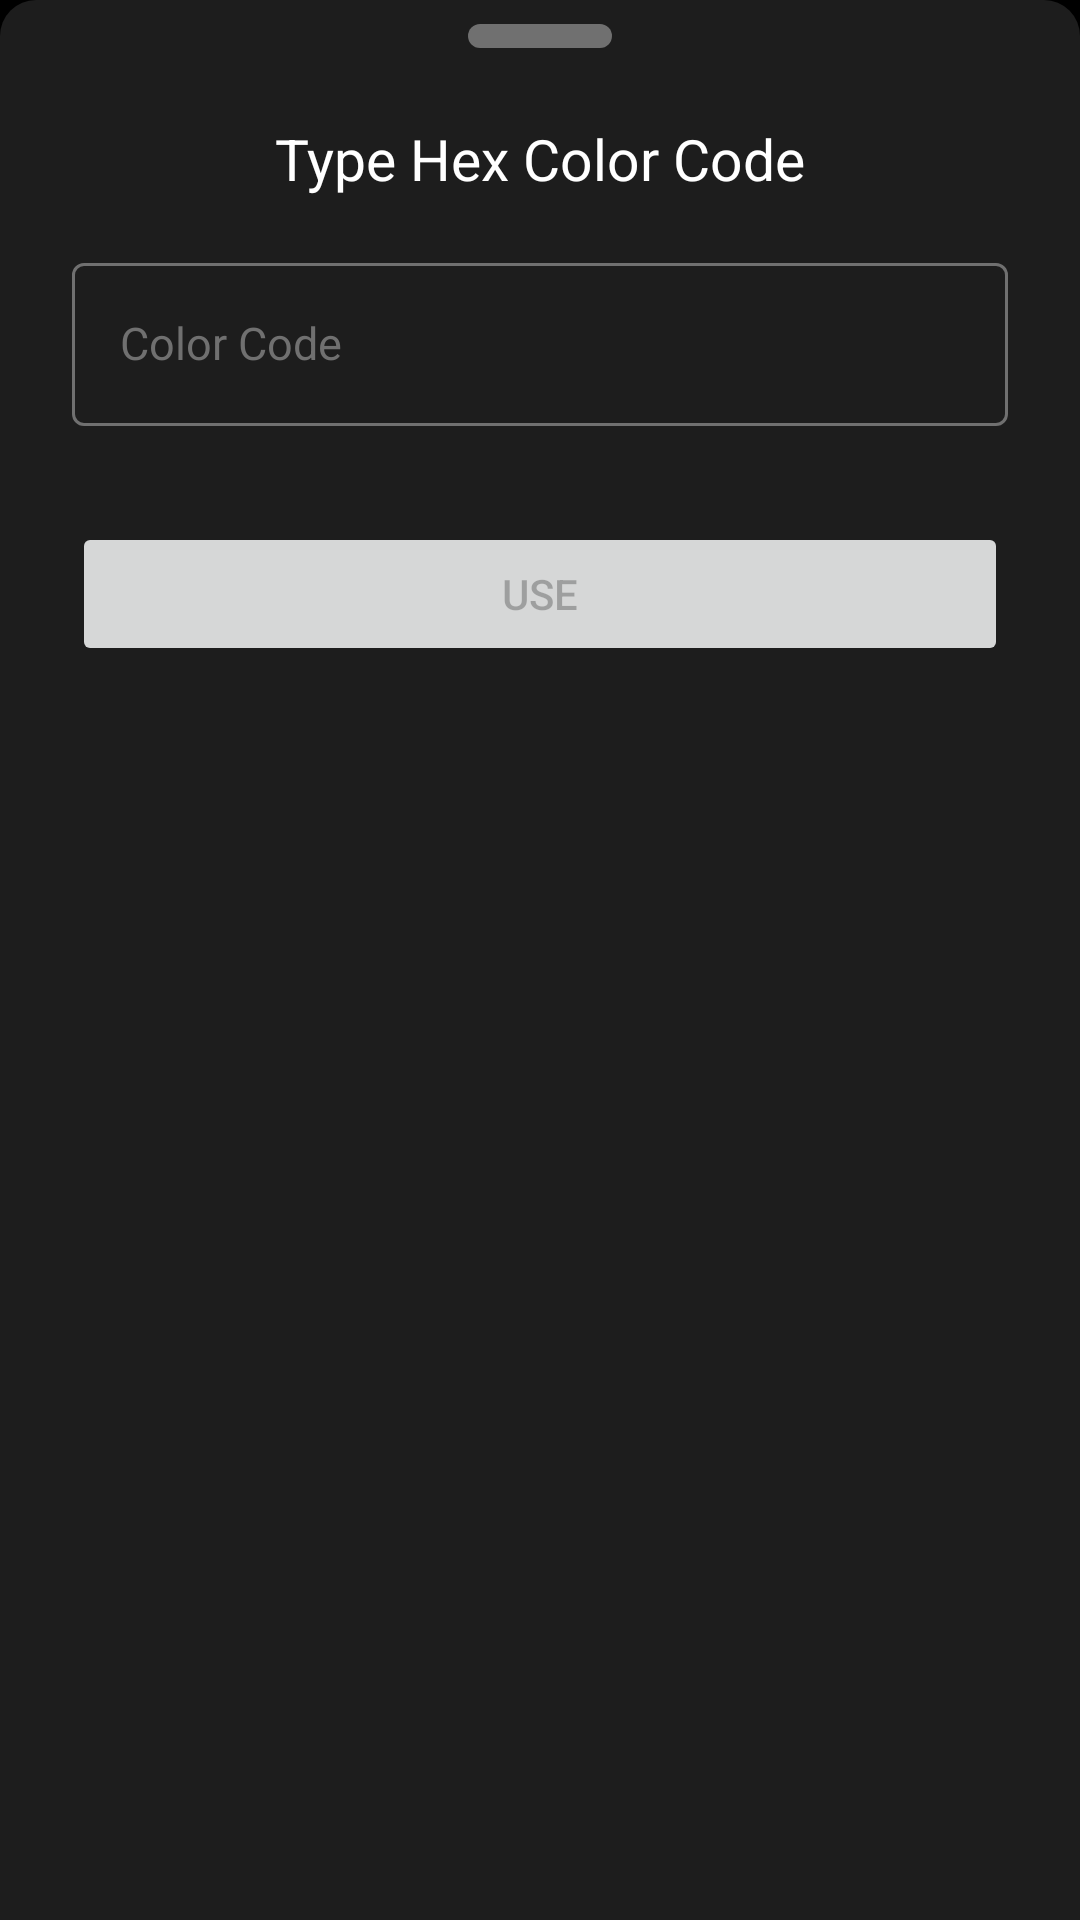

Icons on this 1080w x 1920h Android screen, each with its box as region(x1, y1, x2, y2):
dragable area indicator: region(468, 24, 612, 48)
